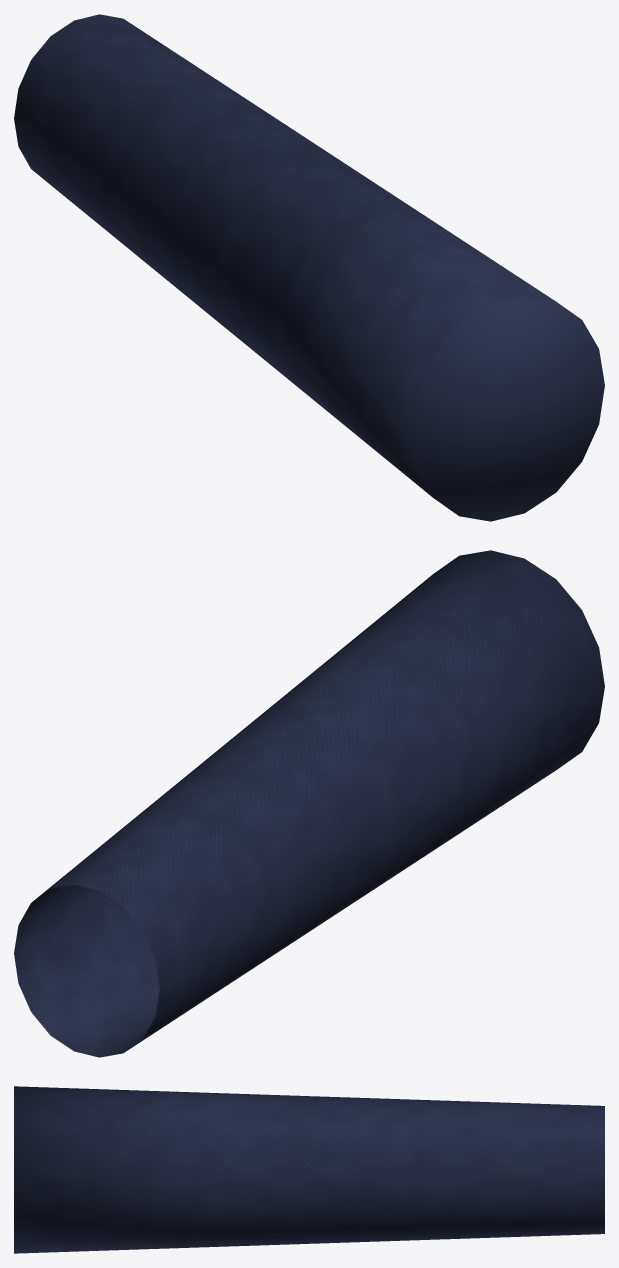
The model's file is fp_upper_edo.glb.
The picture shows the model from 3 angles, top to bottom: view 1: azimuth 30°, elevation 25°; view 2: azimuth 150°, elevation 25°; view 3: azimuth 270°, elevation 25°; orthographic projection. The views are drawn at different scales.
Visible parts, largest first — view 1: fp_upper; view 2: fp_upper; view 3: fp_upper.
Boxes of the visible parts, x1,y1,x2,y2 form: fp_upper: (14,14,604,521); fp_upper: (14,550,604,1057); fp_upper: (14,1086,604,1253).
Size of the model in its own units: 0.096 by 0.1024 by 0.36.
Materials: 1 (1 with a texture image).
